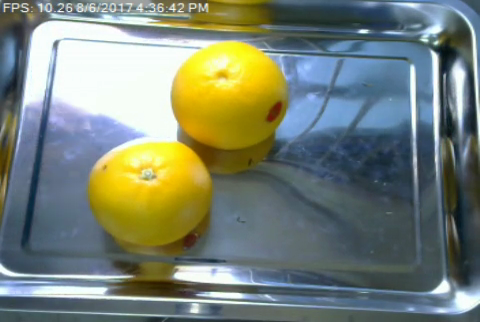Orange: (86, 134, 211, 248), (170, 39, 286, 148)
